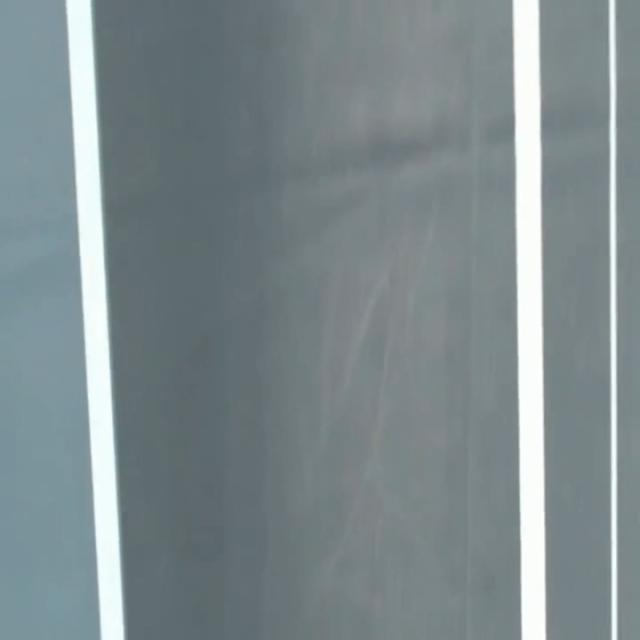center: (513, 0, 546, 639)
left: (66, 0, 124, 639)
